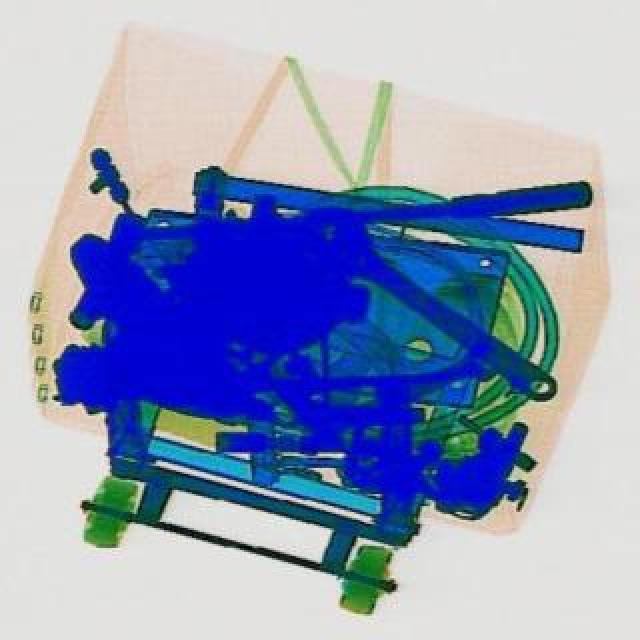scissors: (276, 188, 574, 424)
